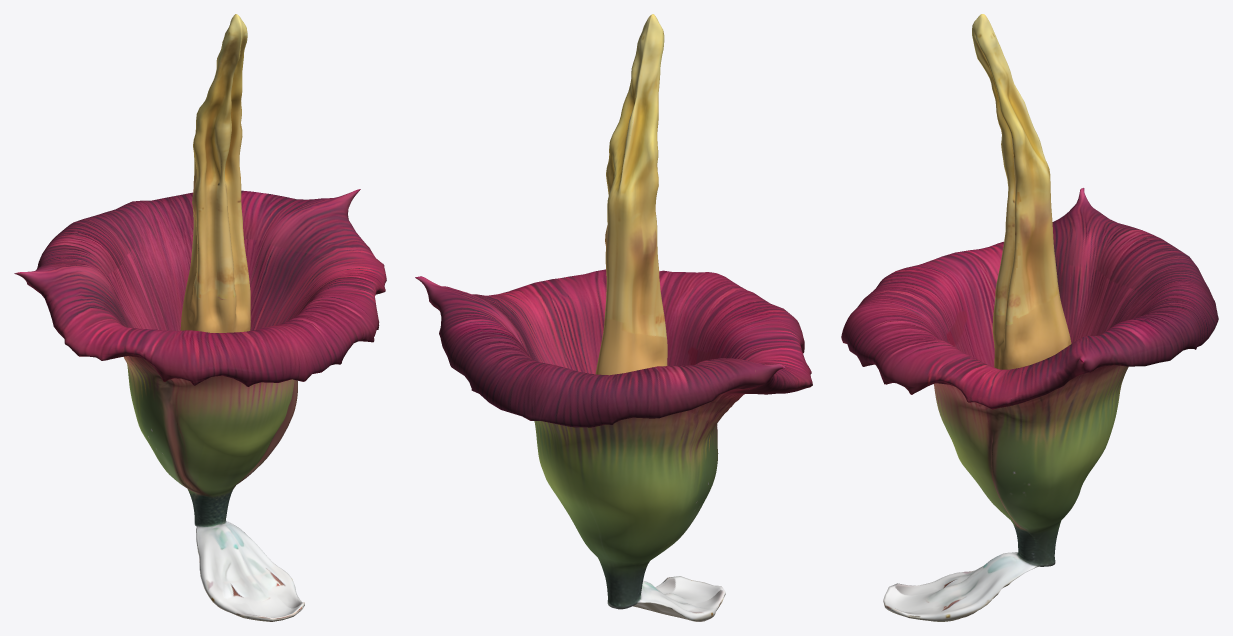
The model's file is Bangke.fbx.
3 renders of one model, left to right at view 1: azimuth 30°, elevation 25°; view 2: azimuth 150°, elevation 25°; view 3: azimuth 270°, elevation 25°, orthographic. The views are drawn at different scales.
Parts seen in each view (by area): view 1: model; view 2: model; view 3: model.
Part boxes in pixels (left/top/right/bottom): model: left=14, top=14, right=386, bottom=621; model: left=415, top=14, right=812, bottom=621; model: left=841, top=14, right=1218, bottom=621.
Bounding box in the file's own units: 119 × 189 × 109.
Materials: 1 (1 with a texture image).
